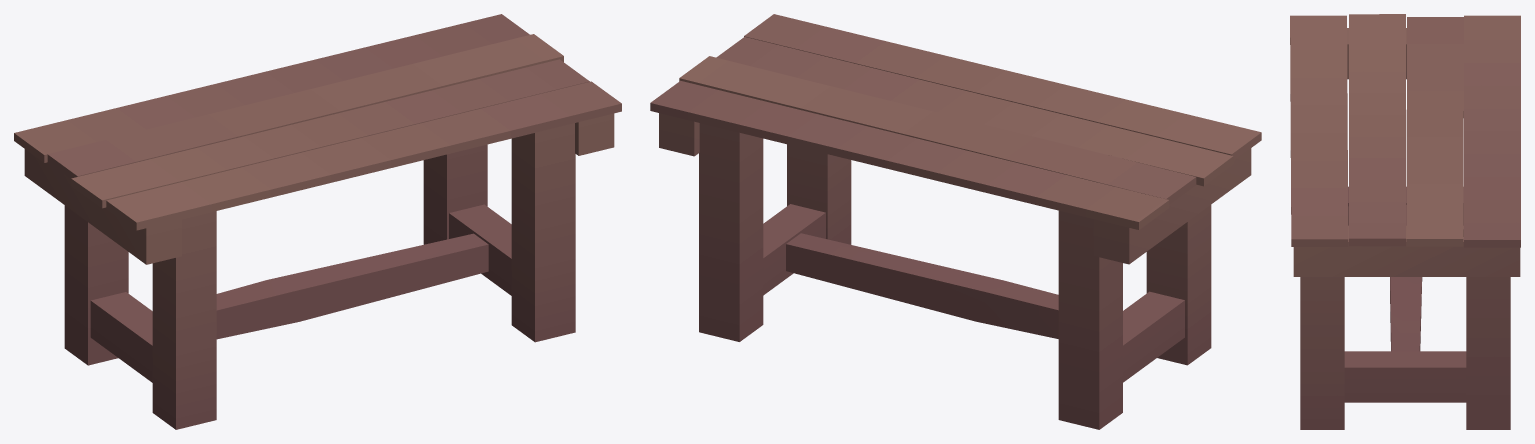
File: Table.fbx
3 renders of one model, left to right at view 1: azimuth 30°, elevation 25°; view 2: azimuth 150°, elevation 25°; view 3: azimuth 270°, elevation 25°, orthographic. The views are drawn at different scales.
Visible parts, largest first — view 1: Table_Adjusted; view 2: Table_Adjusted; view 3: Table_Adjusted.
Part boxes in pixels (x1,y1,x2,y2): Table_Adjusted: (14,14,621,429); Table_Adjusted: (650,14,1261,429); Table_Adjusted: (1290,14,1520,429).
Size of the model in its own units: 199 by 86.49 by 85.58.
